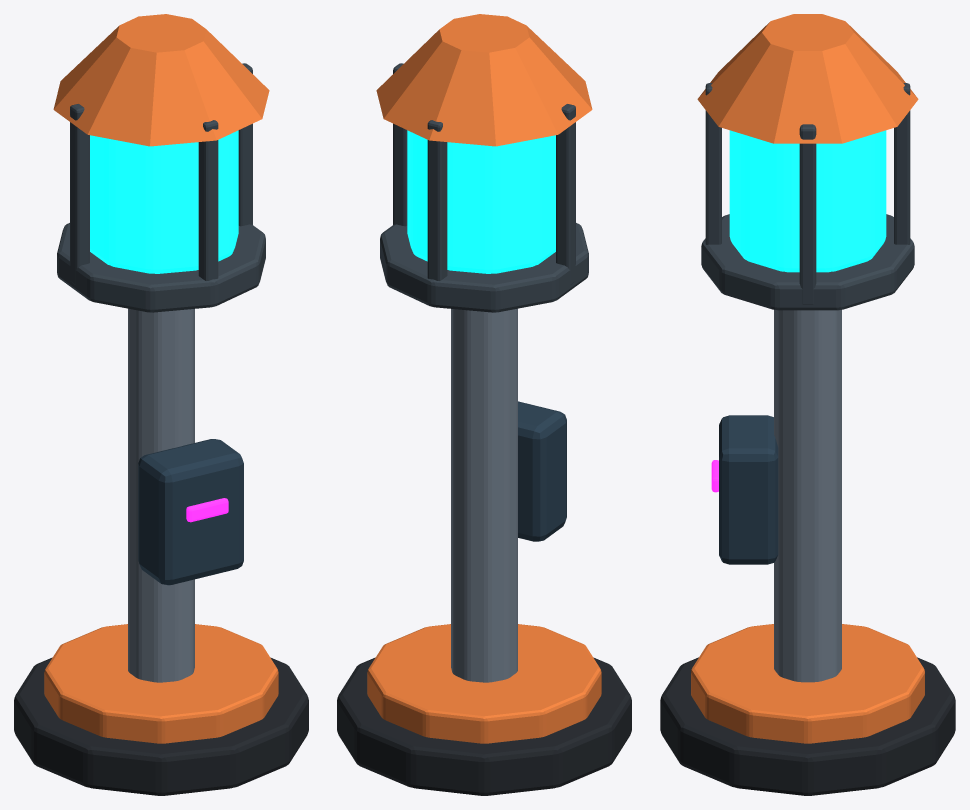
Rendered from beacon-lamp.glb.
The picture shows the model from 3 angles, left to right: view 1: azimuth 30°, elevation 25°; view 2: azimuth 150°, elevation 25°; view 3: azimuth 270°, elevation 25°; orthographic projection.
Parts seen in each view (by area): view 1: LampCap, BaseRing, Base, Pole, LampCore, ControlBox, LampLower, Guard_4.71, Guard_3.14, Guard_0, ControlIndicator; view 2: Pole, LampCap, BaseRing, Base, LampCore, LampLower, ControlBox, Guard_1.57, Guard_3.14, Guard_0; view 3: Pole, LampCap, BaseRing, Base, LampCore, LampLower, ControlBox, Guard_0, Guard_1.57, Guard_4.71.
Boxes of the visible parts, x1,y1,x2,y2 form: LampCap: [53, 14, 269, 146]; BaseRing: [44, 624, 278, 743]; Base: [14, 657, 308, 795]; Pole: [128, 308, 194, 682]; LampCore: [90, 130, 238, 273]; ControlBox: [138, 439, 243, 585]; LampLower: [57, 223, 265, 312]; Guard_4.71: [198, 120, 218, 280]; Guard_3.14: [70, 104, 89, 284]; Guard_0: [238, 63, 252, 226]; ControlIndicator: [186, 498, 228, 522]; Pole: [451, 308, 517, 682]; LampCap: [376, 14, 592, 146]; BaseRing: [367, 624, 601, 743]; Base: [337, 657, 631, 795]; LampCore: [407, 130, 555, 273]; LampLower: [380, 223, 588, 312]; ControlBox: [518, 401, 566, 541]; Guard_1.57: [427, 120, 447, 280]; Guard_3.14: [556, 104, 575, 284]; Guard_0: [393, 63, 407, 226]; Pole: [774, 310, 841, 682]; LampCap: [697, 14, 918, 143]; BaseRing: [691, 624, 924, 743]; Base: [660, 657, 955, 795]; LampCore: [729, 130, 886, 272]; LampLower: [701, 214, 914, 310]; ControlBox: [719, 415, 778, 564]; Guard_0: [799, 124, 816, 304]; Guard_1.57: [894, 83, 910, 244]; Guard_4.71: [705, 83, 721, 244].
Bounding box in the file's own units: 0.8069 × 2.12 × 0.8069.
